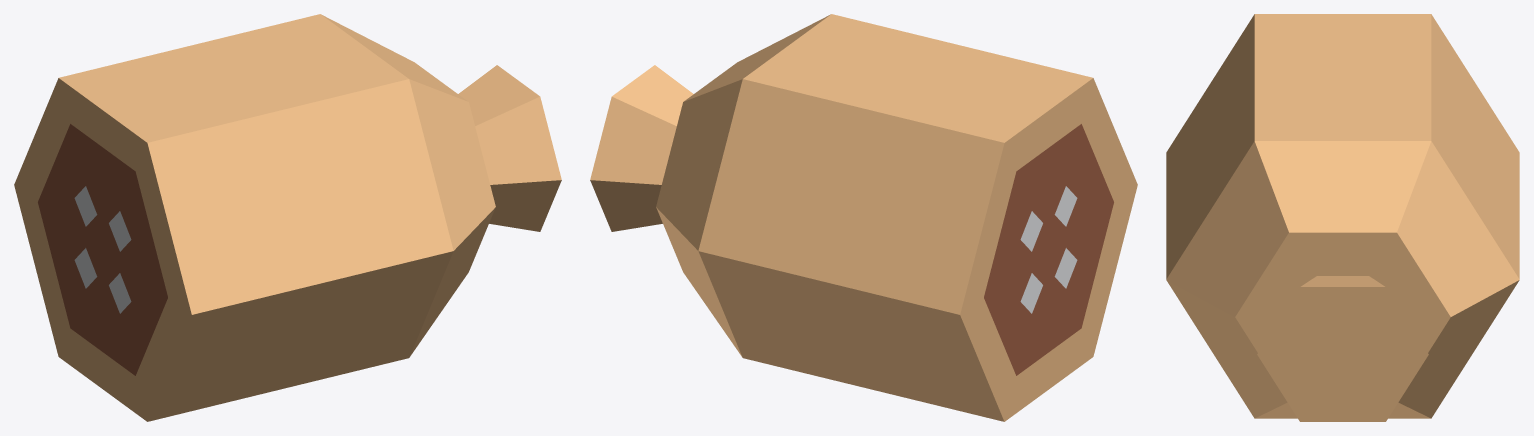
Rendered from sausageHalf.obj.
3 views of the same model, side by side, from view 1: azimuth 30°, elevation 25°; view 2: azimuth 150°, elevation 25°; view 3: azimuth 270°, elevation 25° (orthographic).
Visible parts, largest first — view 1: sausageHalf; view 2: sausageHalf; view 3: sausageHalf.
Part boxes in pixels (x1=…): sausageHalf: x1=14, y1=14, x2=561, y2=421; sausageHalf: x1=590, y1=14, x2=1137, y2=421; sausageHalf: x1=1166, y1=14, x2=1519, y2=421.
Size of the model in its own units: 0.1853 by 0.1189 by 0.1373.
